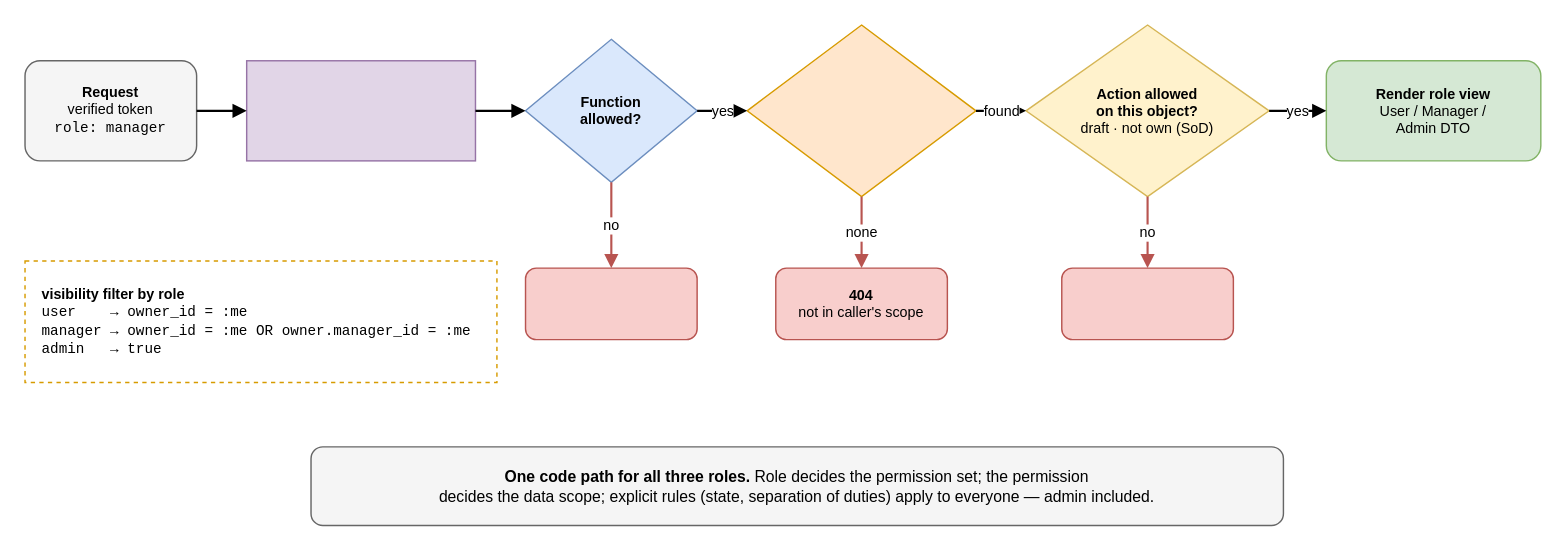
Image size: 1566x551. Some labels were removed from this diagram. The centre of each missing label's shape, as x and y in pixels:
"403 e.g. user → export" belongs at point 610,303.
"403 visible but forbidden" belongs at point 1146,303.
"Load through visibility filter own / team / all" belongs at point 861,110.
"Resolve permissions role → set, in one place expense:read:team …" belongs at point 360,110.
